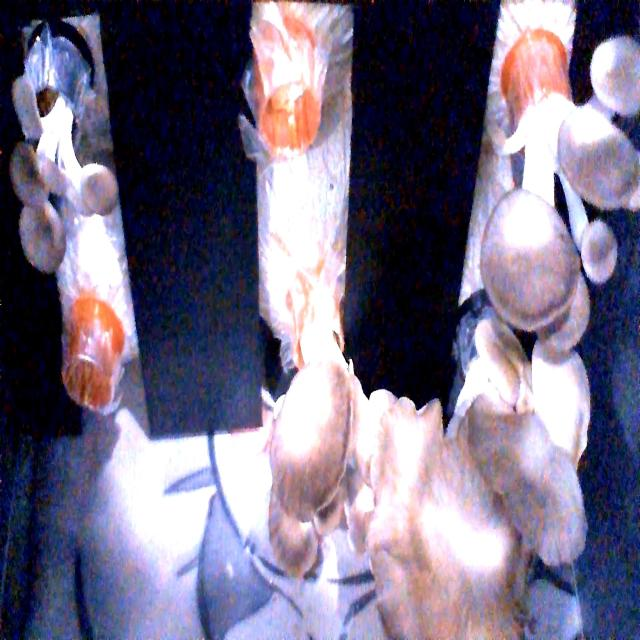big: (344, 369, 589, 639), (489, 40, 640, 348), (269, 343, 373, 562)
nfound: (253, 49, 334, 165), (50, 354, 132, 426)
small: (3, 77, 134, 300)
